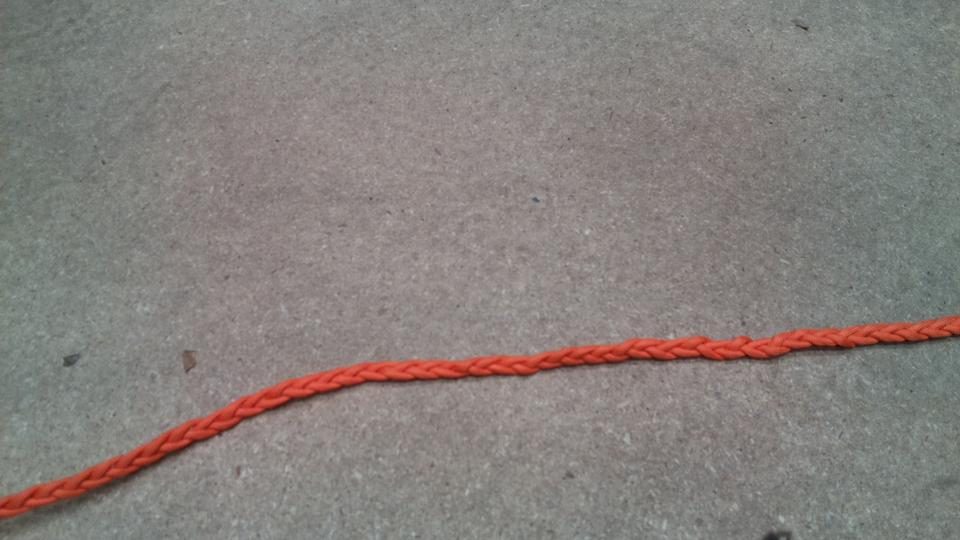rope: (1, 310, 954, 526)
